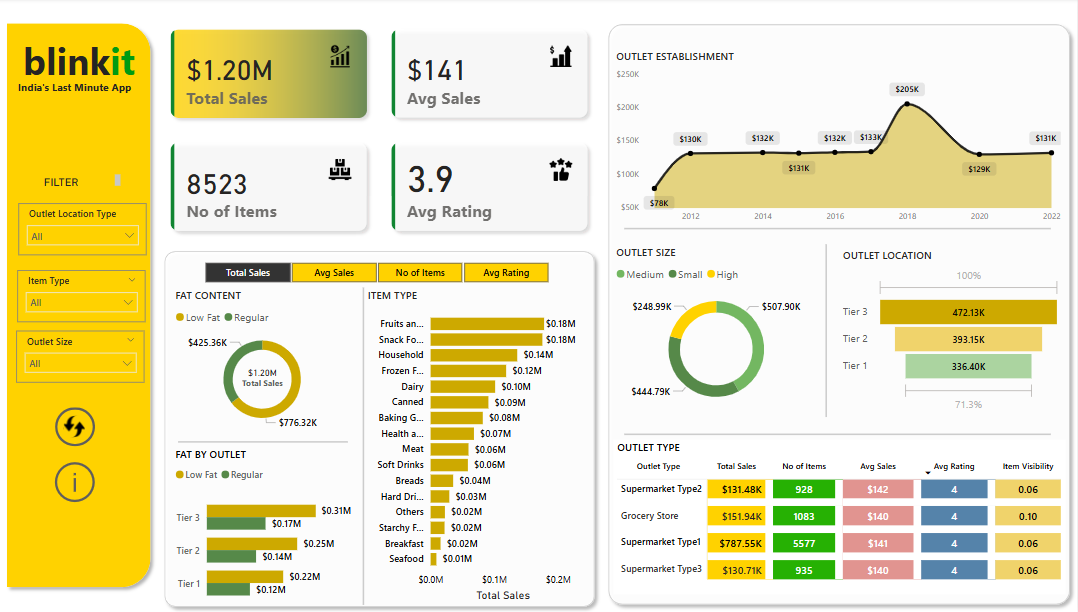

The page's visual inventory and layout, read from the dashboard file:
{"tool":"powerbi","page":{"name":"Dashboard","canvas":[1400,800],"ordinal":0},"visuals":[{"type":"shape","box":[0,24.5,204.5,750.9],"z":0},{"type":"textbox","box":[18.6,42.9,168.6,74.3],"z":1000},{"type":"textbox","box":[7.1,101.4,180,28.6],"z":2000},{"type":"cardVisual","fields":{"Data":["BlinkIT Grocery Data.Total Sales","BlinkIT Grocery Data.Avg Sales","BlinkIT Grocery Data.No of Items","BlinkIT Grocery Data.Avg Rating"]},"box":[204.9,23.9,576.9,296.2],"z":3000},{"type":"shape","box":[204.9,320,576.9,480.1],"z":4000},{"type":"donutChart","title":"FAT CONTENT","fields":{"Y":["BlinkIT Grocery Data.Total Sales"],"Category":["BlinkIT Grocery Data.Item Fat Content"]},"box":[223.2,376.2,235.8,190.9],"z":5000},{"type":"slicer","fields":{"Values":["metrics.metrics"]},"box":[241.4,336.9,495.5,39.3],"z":6000},{"type":"cardVisual","fields":{"Data":["BlinkIT Grocery Data.Total Sales"]},"box":[290.6,454.8,101.1,77.2],"z":7000},{"type":"clusteredBarChart","title":"FAT BY OUTLET","fields":{"Y":["BlinkIT Grocery Data.Total Sales"],"Series":["BlinkIT Grocery Data.Item Fat Content"],"Category":["BlinkIT Grocery Data.Outlet Location Type"]},"box":[223.2,582.5,238.6,217.6],"z":8000},{"type":"shape","box":[231.6,560.1,220.4,33.7],"z":9000},{"type":"shape","box":[466,376.2,12.6,412.7],"z":10000},{"type":"clusteredBarChart","title":"ITEM TYPE","fields":{"Y":["BlinkIT Grocery Data.Total Sales"],"Category":["BlinkIT Grocery Data.Item Type"]},"box":[473,376.2,297.6,412.7],"z":11000},{"type":"shape","box":[781.9,25.3,617.6,772],"z":12000},{"type":"lineChart","title":" OUTLET ESTABLISHMENT","fields":{"Category":["BlinkIT Grocery Data.Outlet Establishment Year"],"Y":["BlinkIT Grocery Data.Total Sales"]},"box":[795.9,66,588.2,234.4],"z":13000},{"type":"shape","box":[811.3,560.1,554.5,14],"z":14000},{"type":"donutChart","title":"OUTLET SIZE","fields":{"Y":["BlinkIT Grocery Data.Total Sales"],"Category":["BlinkIT Grocery Data.Outlet Size"]},"box":[795.9,320,270.9,224.6],"z":15000},{"type":"funnel","title":"OUTLET LOCATION","fields":{"Category":["BlinkIT Grocery Data.Outlet Location Type"],"Y":["Sum(BlinkIT Grocery Data.Sales)"]},"box":[1090.7,324.3,293.4,220.4],"z":16000},{"type":"shape","box":[811.3,293.4,554.5,12.6],"z":17000},{"type":"pivotTable","title":"OUTLET TYPE","fields":{"Rows":["BlinkIT Grocery Data.Outlet Type"],"Values":["BlinkIT Grocery Data.Total Sales","BlinkIT Grocery Data.No of Items","BlinkIT Grocery Data.Avg Sales","BlinkIT Grocery Data.Avg Rating","Avg(BlinkIT Grocery Data.Item Visibility)"]},"box":[797.3,574.1,588.2,200.7],"z":18000},{"type":"shape","box":[1066.8,320,14,224.6],"z":19000},{"type":"slicer","fields":{"Values":["BlinkIT Grocery Data.Outlet Location Type"]},"box":[23.9,266.7,167,67.4],"z":20000},{"type":"slicer","fields":{"Values":["BlinkIT Grocery Data.Outlet Size"]},"box":[21.1,432.3,167,67.4],"z":21000},{"type":"slicer","fields":{"Values":["BlinkIT Grocery Data.Item Type"]},"box":[22.5,353.7,167,67.4],"z":22000},{"type":"textbox","box":[51.9,224.6,109.5,32.3],"z":23000},{"type":"actionButton","box":[71.6,532,51.9,50.5],"z":24000},{"type":"actionButton","box":[64.6,593.8,66,71.6],"z":25000}]}

Visuals, with their boxes in screenshot pixels (x1, y1, x2, y2), scaled from the page's 1400x800 canvas onto the 1078x612 screenshot:
shape: <bbox>0, 19, 157, 593</bbox>
textbox: <bbox>14, 33, 144, 90</bbox>
textbox: <bbox>5, 78, 144, 99</bbox>
cardVisual - BlinkIT Grocery Data.Total Sales x BlinkIT Grocery Data.Avg Sales: <bbox>158, 18, 602, 245</bbox>
shape: <bbox>158, 245, 602, 611</bbox>
"FAT CONTENT" donutChart: <bbox>172, 288, 353, 434</bbox>
slicer - metrics.metrics: <bbox>186, 258, 567, 288</bbox>
cardVisual - BlinkIT Grocery Data.Total Sales: <bbox>224, 348, 302, 407</bbox>
"FAT BY OUTLET" clusteredBarChart: <bbox>172, 446, 356, 611</bbox>
shape: <bbox>178, 428, 348, 454</bbox>
shape: <bbox>359, 288, 369, 604</bbox>
"ITEM TYPE" clusteredBarChart: <bbox>364, 288, 593, 604</bbox>
shape: <bbox>602, 19, 1077, 610</bbox>
" OUTLET ESTABLISHMENT" lineChart: <bbox>613, 50, 1066, 230</bbox>
shape: <bbox>625, 428, 1052, 439</bbox>
"OUTLET SIZE" donutChart: <bbox>613, 245, 821, 417</bbox>
"OUTLET LOCATION" funnel: <bbox>840, 248, 1066, 417</bbox>
shape: <bbox>625, 224, 1052, 234</bbox>
"OUTLET TYPE" pivotTable: <bbox>614, 439, 1067, 593</bbox>
shape: <bbox>821, 245, 832, 417</bbox>
slicer - BlinkIT Grocery Data.Outlet Location Type: <bbox>18, 204, 147, 256</bbox>
slicer - BlinkIT Grocery Data.Outlet Size: <bbox>16, 331, 145, 382</bbox>
slicer - BlinkIT Grocery Data.Item Type: <bbox>17, 271, 146, 322</bbox>
textbox: <bbox>40, 172, 124, 197</bbox>
actionButton: <bbox>55, 407, 95, 446</bbox>
actionButton: <bbox>50, 454, 101, 509</bbox>
